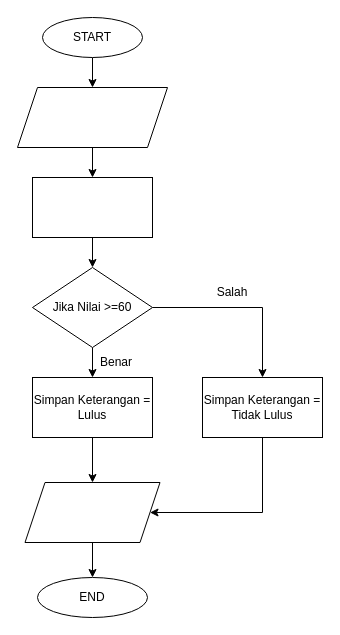
Some shapes in this 340 by 635 pixel diagram are drawn without their labels. Each missing label, with the centre of its shape:
"Input Nama dan Nilai Mahasiswa" belongs at (x=92, y=117).
"Output Nama dan Keterangan" belongs at (x=92, y=512).
"Simpan Nama dan Nilai Mahasiswa" belongs at (x=92, y=207).
